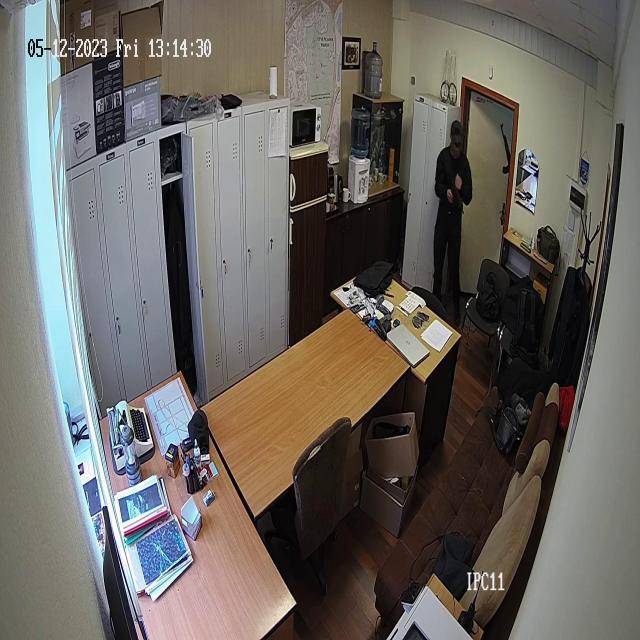pistol: (498, 121, 512, 180), (450, 186, 468, 217)
